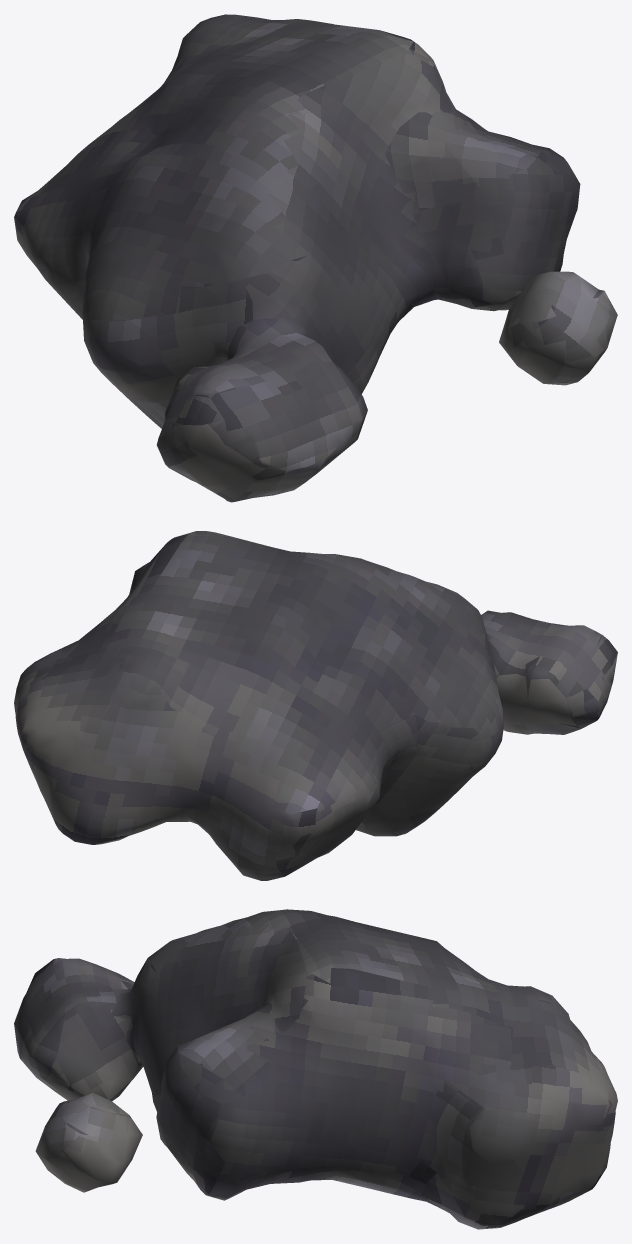
Rendered from rocks.obj.
3 renders of one model, top to bottom at view 1: azimuth 30°, elevation 25°; view 2: azimuth 150°, elevation 25°; view 3: azimuth 270°, elevation 25°, orthographic. The views are drawn at different scales.
Visible parts, largest first — view 1: Mball.008_Mesh; view 2: Mball.008_Mesh; view 3: Mball.008_Mesh.
Part boxes in pixels (x1,y1,x2,y2): Mball.008_Mesh: (14,14,617,502); Mball.008_Mesh: (14,531,617,880); Mball.008_Mesh: (14,909,617,1229).
Bounding box in the file's own units: 3.67 × 2.42 × 4.51.
Materials: 1 (1 with a texture image).
